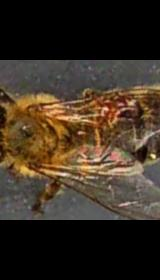varroa_mite: (95, 91, 132, 129)
